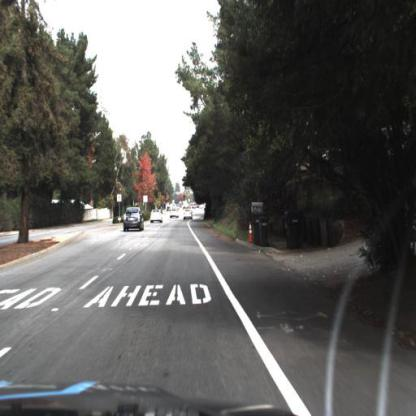car: (121, 204, 145, 234), (179, 200, 196, 223), (148, 204, 162, 227), (169, 204, 180, 221)
